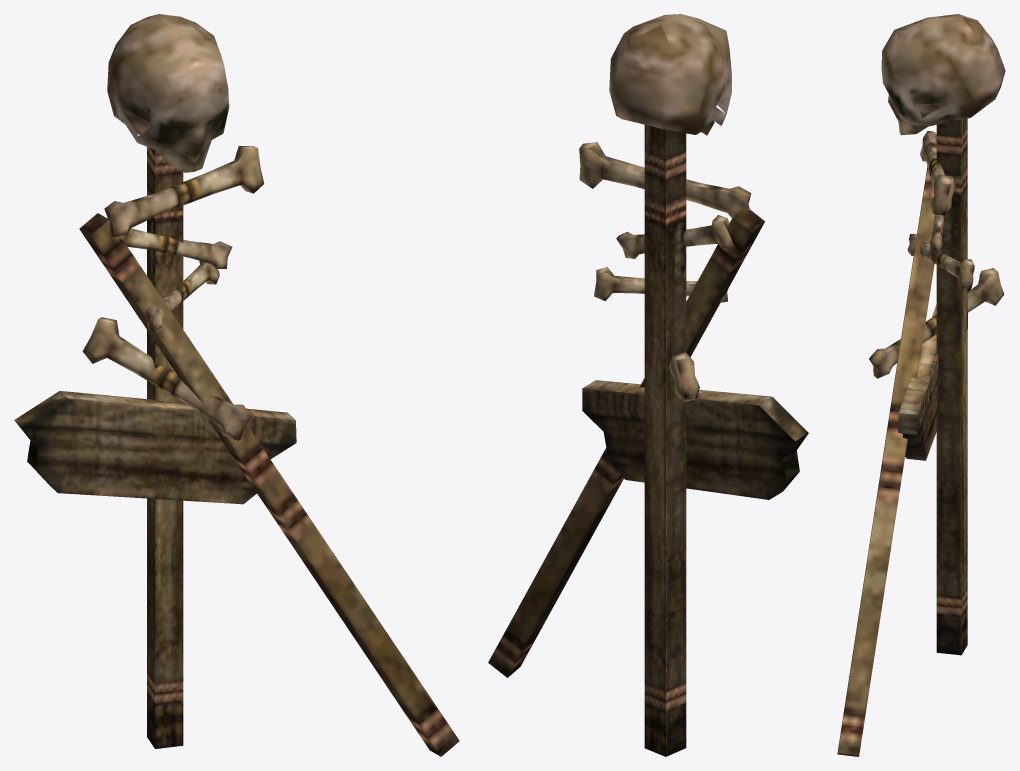
File: ob-11-05-bonetomb_03.glb
3 renders of one model, left to right at view 1: azimuth 30°, elevation 25°; view 2: azimuth 150°, elevation 25°; view 3: azimuth 270°, elevation 25°, orthographic. The views are drawn at different scales.
Visible parts, largest first — view 1: Mesh03; view 2: Mesh03; view 3: Mesh03.
Part boxes in pixels (x1,y1,x2,y2): Mesh03: (14,14,459,756); Mesh03: (488,14,808,756); Mesh03: (837,14,1005,756).
Size of the model in its own units: 1.25 by 2.39 by 0.5623.
Materials: 1 (1 with a texture image).
